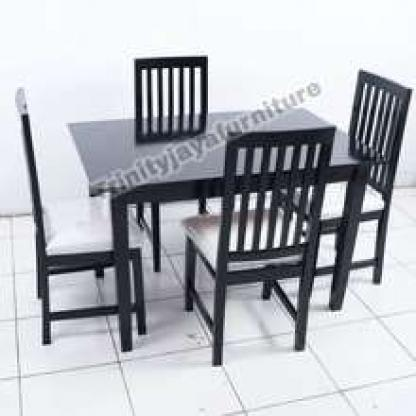Dining Table: (3, 49, 416, 378)
